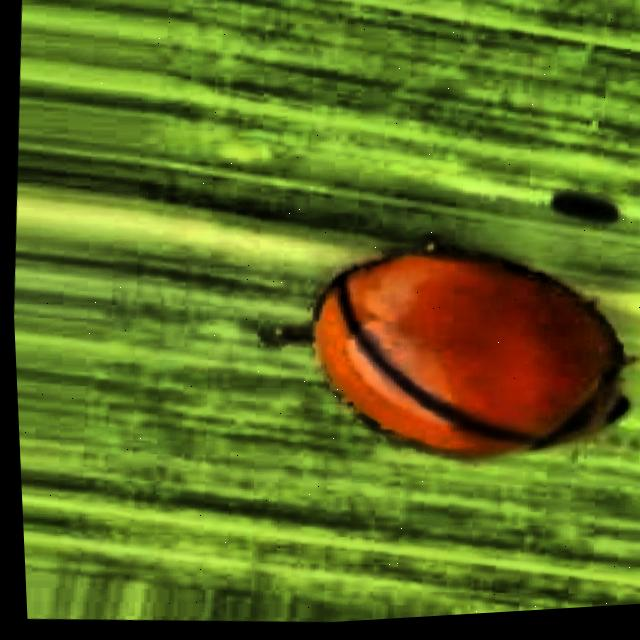Ladybug: (179, 154, 640, 529)
